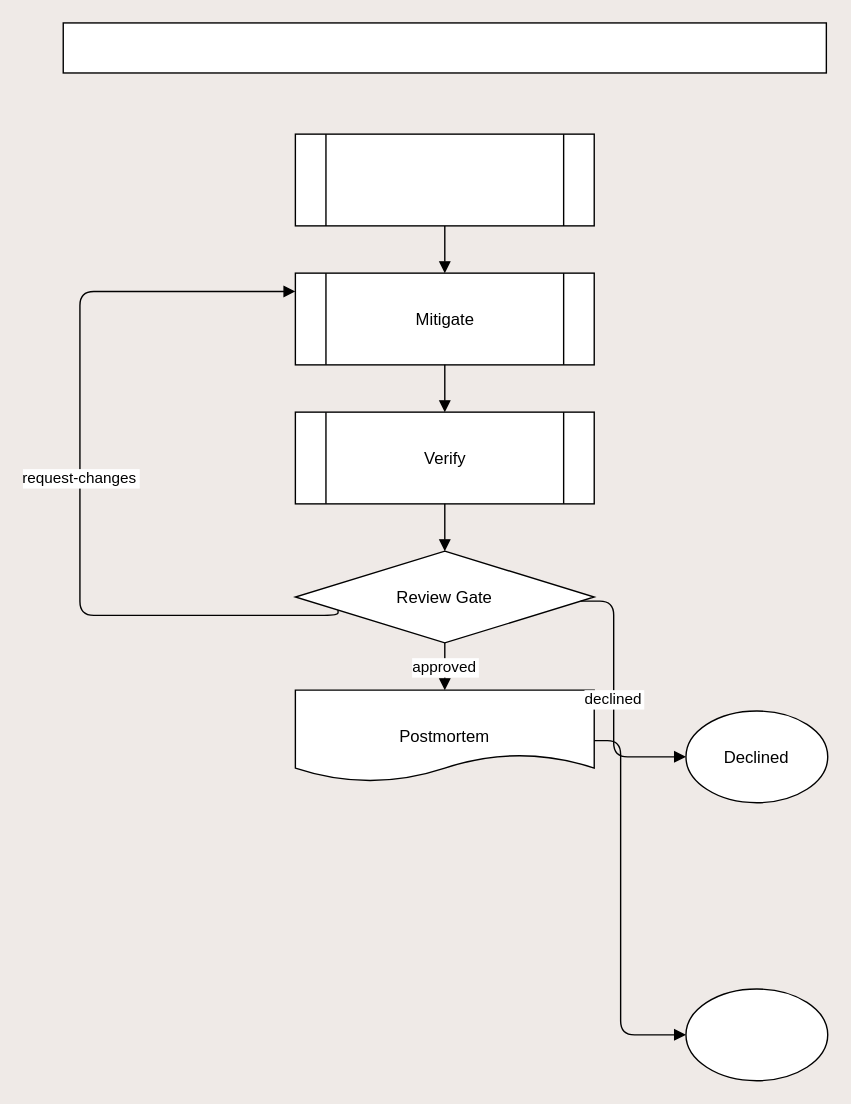
This 851x1104 diagram has some shape labels left out. Here are the shapes that lost their labels. From the top down, the centre of each, then its label:
At (x=444, y=47): "Incident Response workflow".
At (x=444, y=179): "Triage".
At (x=756, y=1034): "Done".
